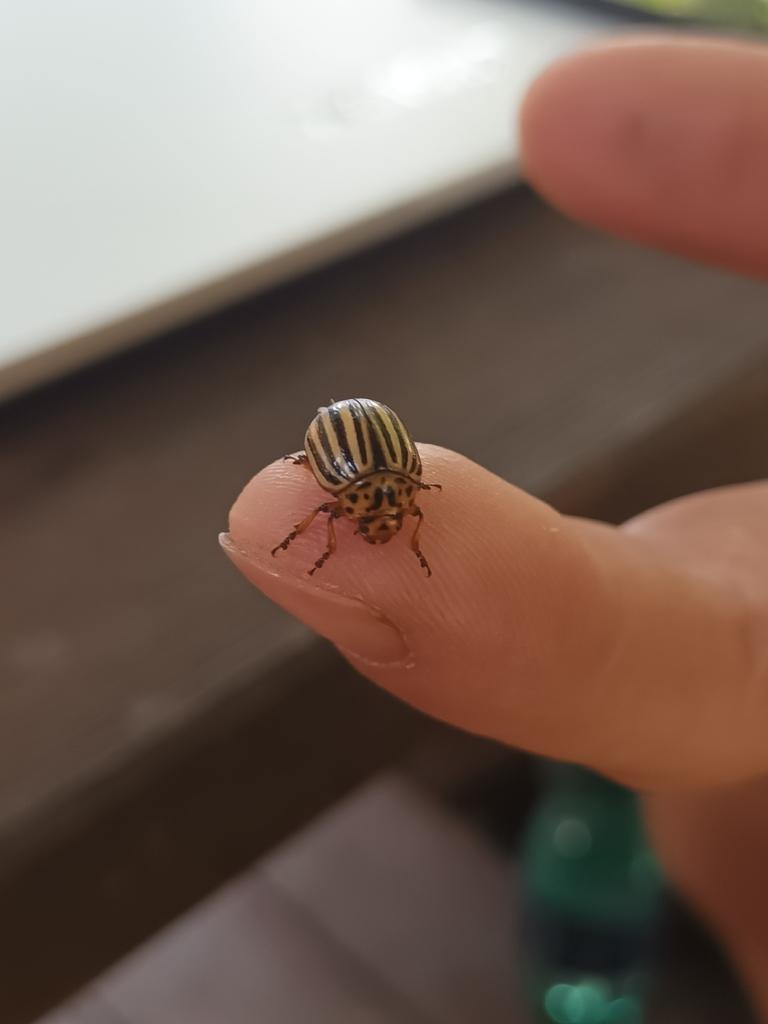potato_beetle: (233, 350, 483, 616)
